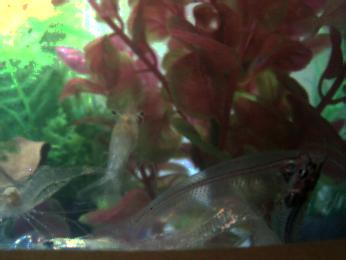X-ray fish: (296, 3, 346, 40)
glassfish: (113, 148, 311, 238)
siberian prawn: (3, 162, 105, 225), (98, 96, 148, 196)
